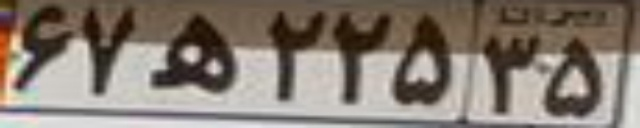2: (331, 8, 388, 105), (266, 8, 320, 101)
3: (478, 32, 540, 113)
5: (393, 12, 450, 105), (542, 36, 604, 116)
6: (14, 3, 71, 88)
7: (80, 5, 135, 95)
he: (153, 12, 239, 93)
